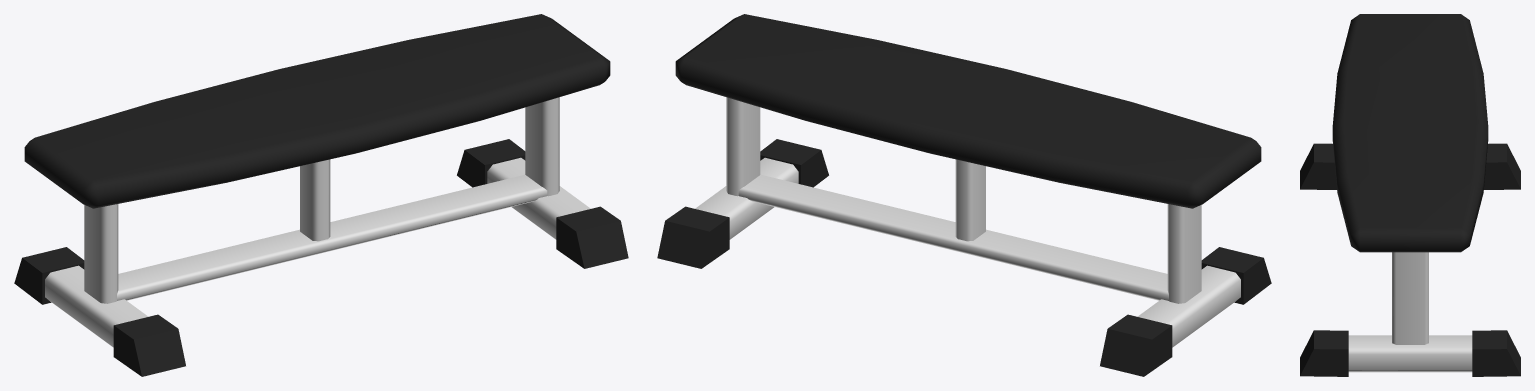
The model's file is training_007.fbx.
3 views of the same model, side by side, from view 1: azimuth 30°, elevation 25°; view 2: azimuth 150°, elevation 25°; view 3: azimuth 270°, elevation 25° (orthographic). The views are drawn at different scales.
Visible parts, largest first — view 1: training_007; view 2: training_007; view 3: training_007.
Part boxes in pixels (x1,y1,x2,y2): training_007: [14, 14, 628, 376]; training_007: [657, 14, 1271, 376]; training_007: [1300, 14, 1520, 376].
Bounding box in the file's own units: 152 × 63.69 × 48.23.
